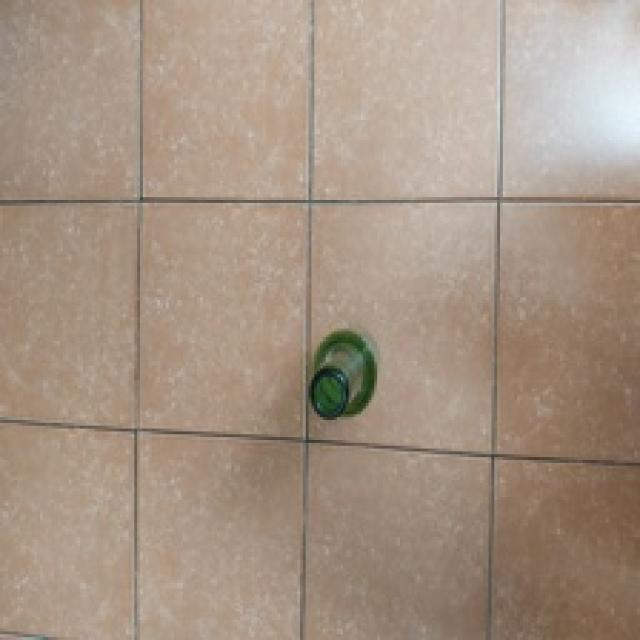Glass: (308, 328, 378, 421)
